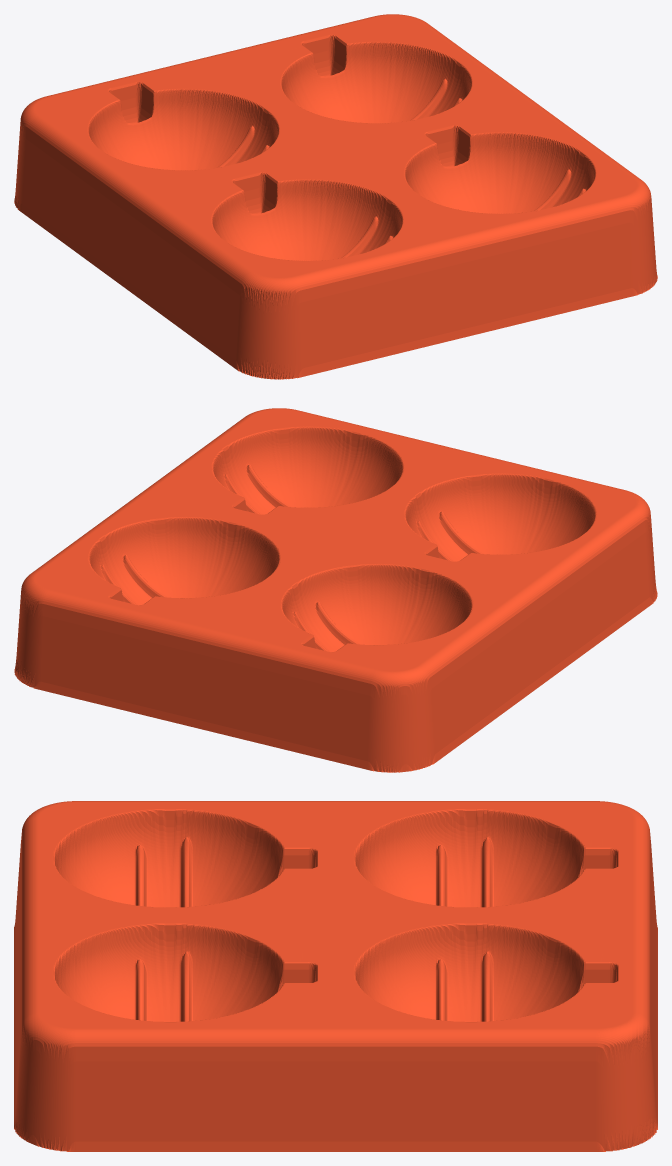
The model's file is mold.glb.
3 views of the same model, one above another, from view 1: azimuth 30°, elevation 25°; view 2: azimuth 150°, elevation 25°; view 3: azimuth 270°, elevation 25° (orthographic). The views are drawn at different scales.
Parts seen in each view (by area): view 1: geometry_0; view 2: geometry_0; view 3: geometry_0.
Part boxes in pixels (x1,y1,x2,y2): geometry_0: [14, 14, 657, 379]; geometry_0: [14, 408, 657, 772]; geometry_0: [14, 801, 657, 1151].
Bounding box in the file's own units: 0.0854 × 0.0182 × 0.0942.
